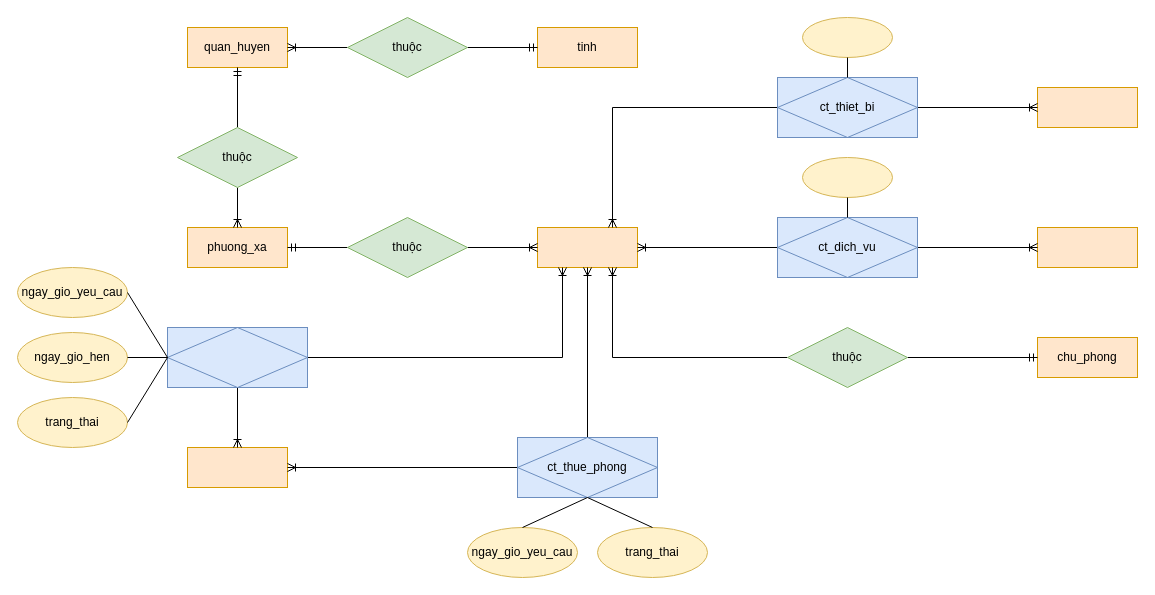
The diagram is 1155 pixels wide and 595 high, and some of its shapes have lost their labels. The box of each missing label's shape, as (x1, y1, x2, y2) in pixels:
ct_xem_phong: (166, 326, 308, 388)
dich_vu: (1036, 226, 1138, 268)
gia: (802, 156, 892, 198)
nguoi_tim_phong: (186, 446, 288, 488)
phong: (536, 226, 638, 268)
so_luong: (802, 16, 892, 58)
thiet_bi: (1036, 86, 1138, 128)
